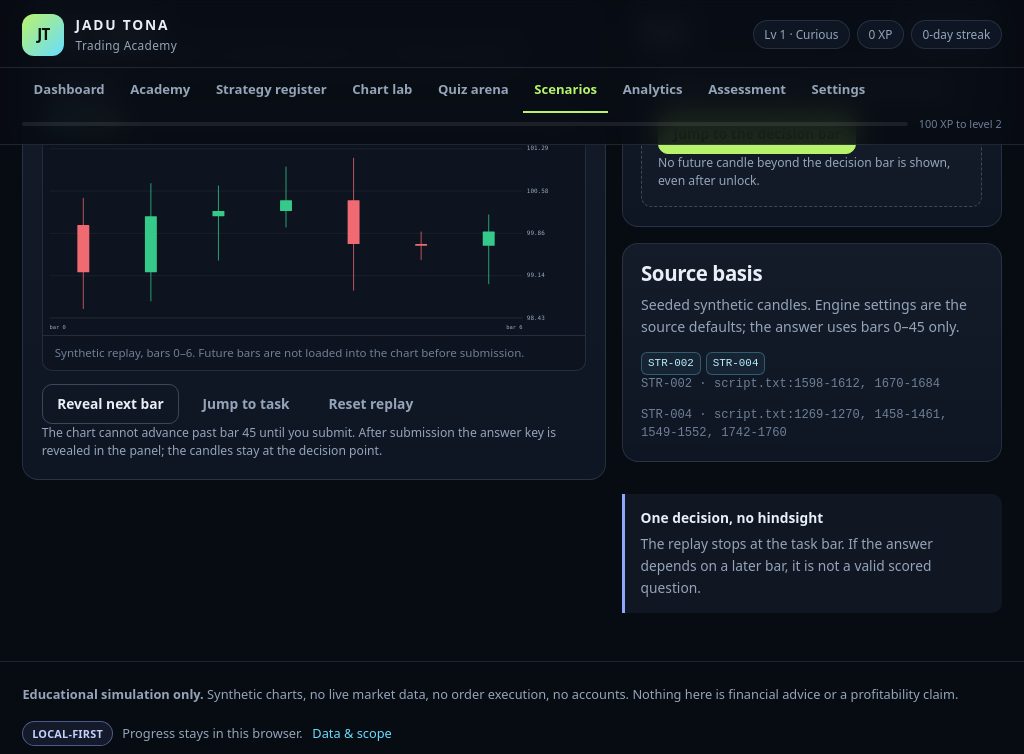
Test: scenario replay › keeps future candles and the explanation out of the DOM until submission
The width and height of the screenshot is (1024, 754).
(page scrolled)
Click the button "Jump to task" at (246, 404), box [187,384,305,424]
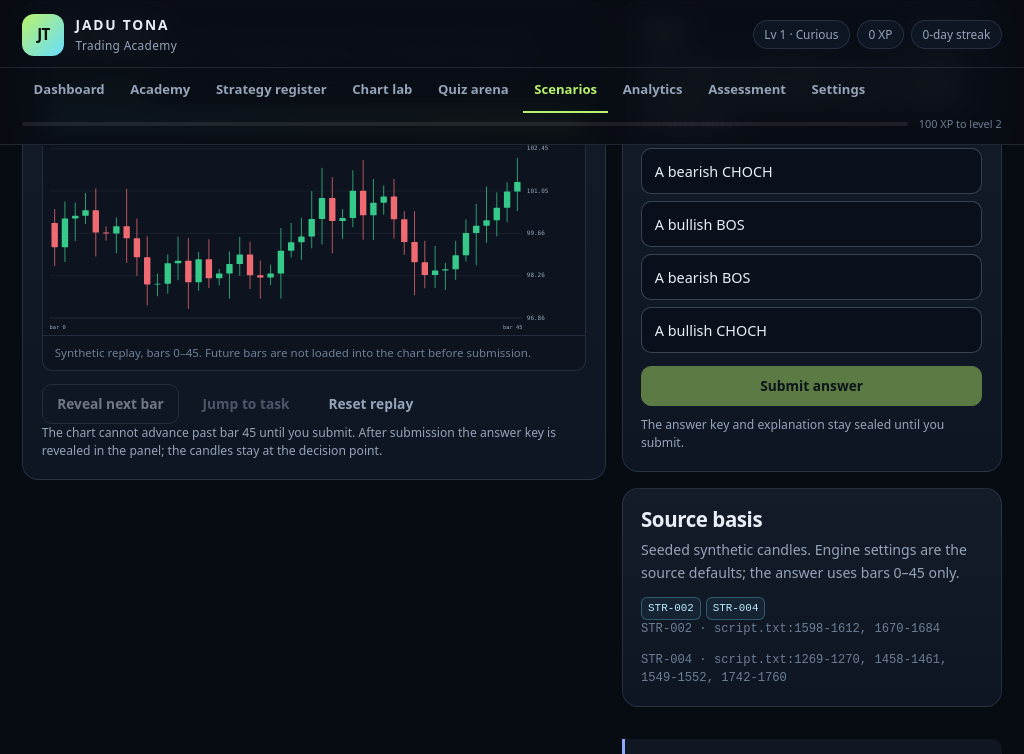
Check: the button "A bearish CHOCH" is shown, box [641,148,982,194]
Click the button "A bullish BOS" at (700, 224), box [641,201,982,247]
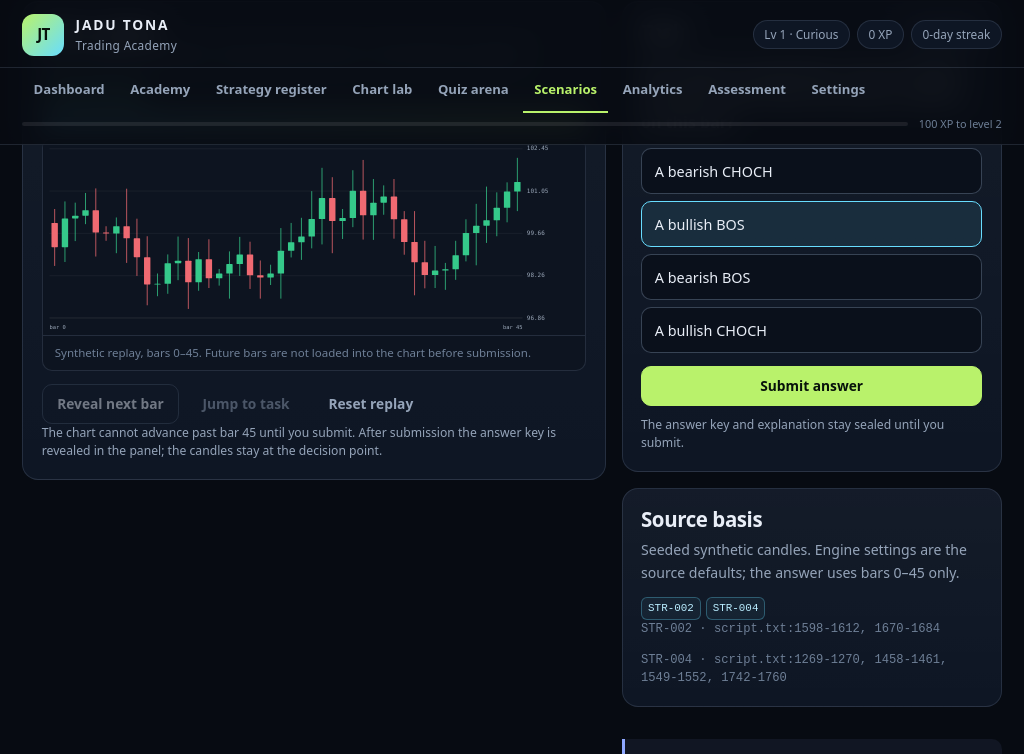
Click the button "Submit answer" at (812, 386), box [641,366,982,406]
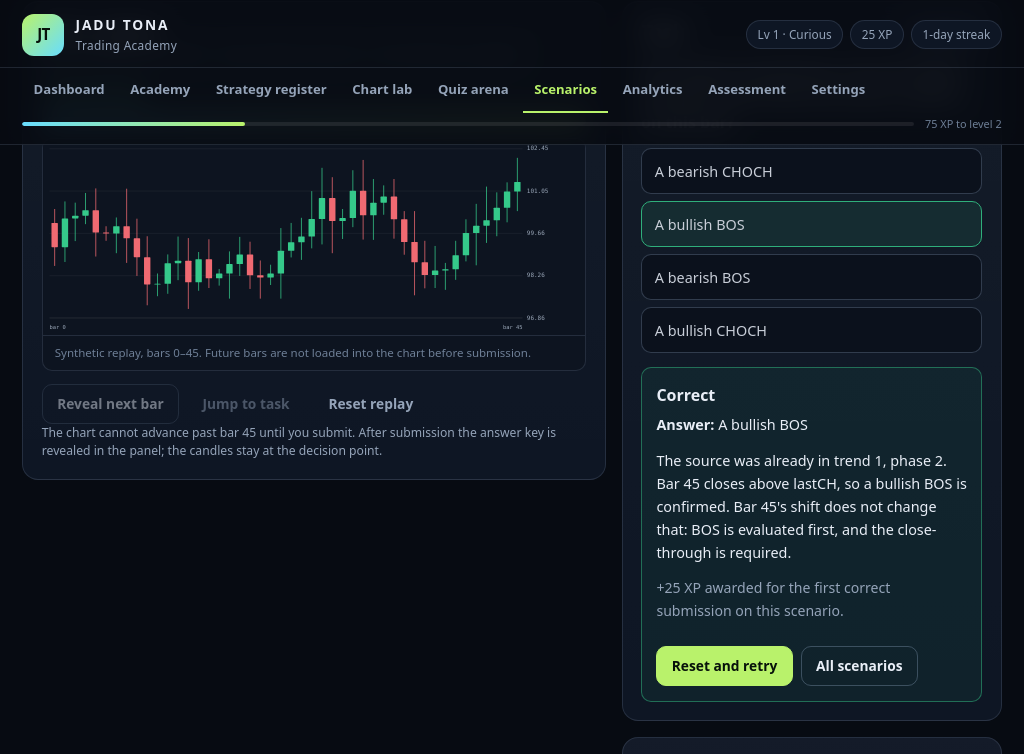
Check: the text "Correct" is shown, box [656,384,715,406]
Check: the text "The source was already in trend 1, phase 2. Bar 45 closes above lastCH, so a bullish BOS is confirmed. Bar 45's shift do" is shown, box [656,451,967,562]
